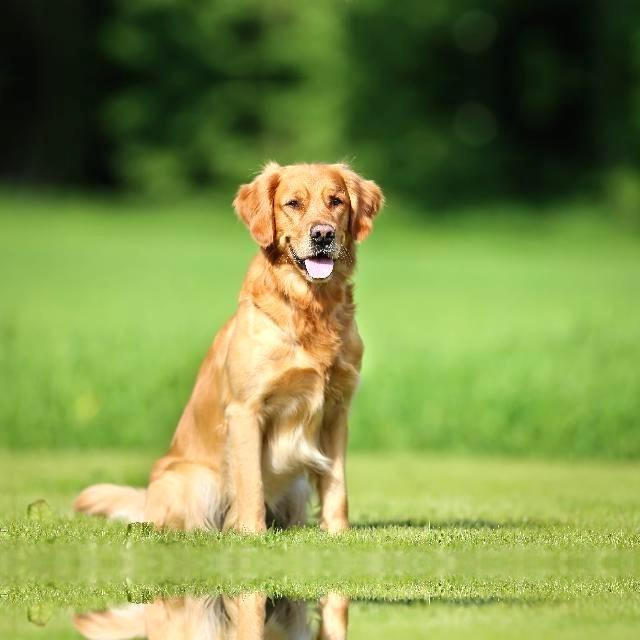dog: (73, 149, 385, 531), (73, 593, 385, 640), (73, 0, 385, 5)
